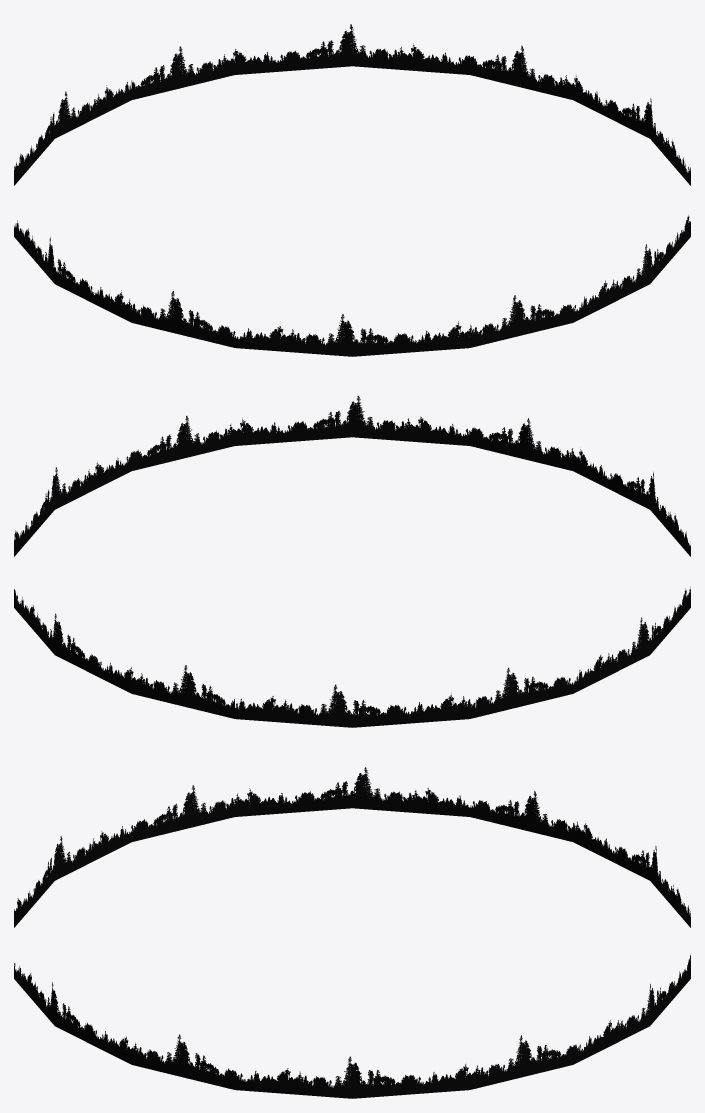
Rendered from treeline.FBX.
The picture shows the model from 3 angles, top to bottom: view 1: azimuth 30°, elevation 25°; view 2: azimuth 150°, elevation 25°; view 3: azimuth 270°, elevation 25°; orthographic projection.
Parts seen in each view (by area): view 1: treeline; view 2: treeline; view 3: treeline.
Boxes of the visible parts, box(x1,y1,x2,y2) form: treeline: box(14, 24, 690, 356); treeline: box(14, 395, 690, 727); treeline: box(14, 767, 690, 1098).
Size of the model in its own units: 80 by 6.7 by 78.78.
1 material, 1 textured.
